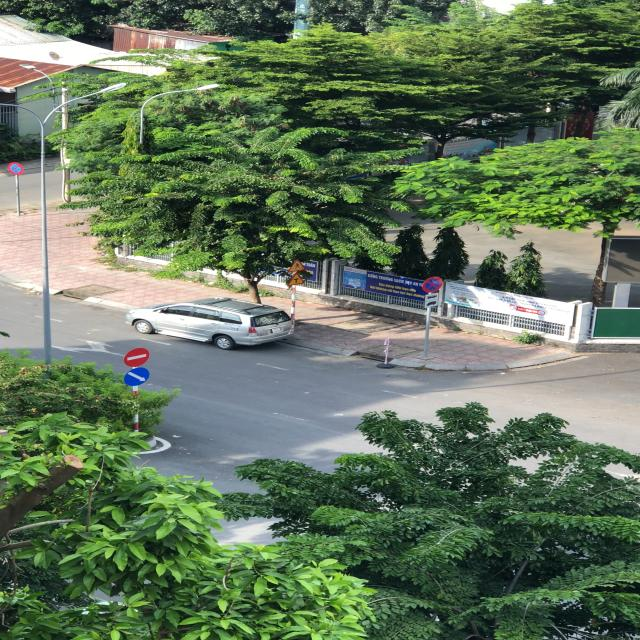Bien bao cam di nguoc chieu: (122, 347, 153, 368)
Bien bao cam dung xe va do xe: (419, 276, 446, 294)
Bien bao duong giao nhau: (286, 273, 308, 287)
Bien bao duong nguoi di bo cat ngang: (285, 259, 311, 273)
Bien bao huong phai di vong chuong ngai vat: (122, 367, 155, 387)
